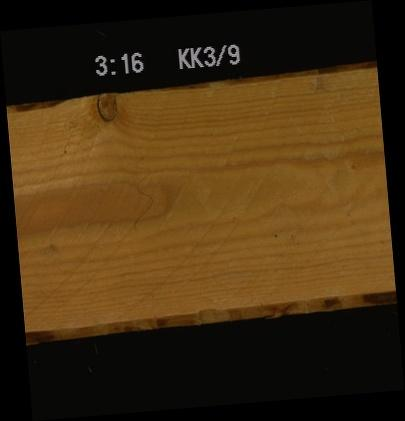edge_knot: (94, 92, 117, 122)
wave: (24, 300, 393, 332), (6, 96, 85, 116)
